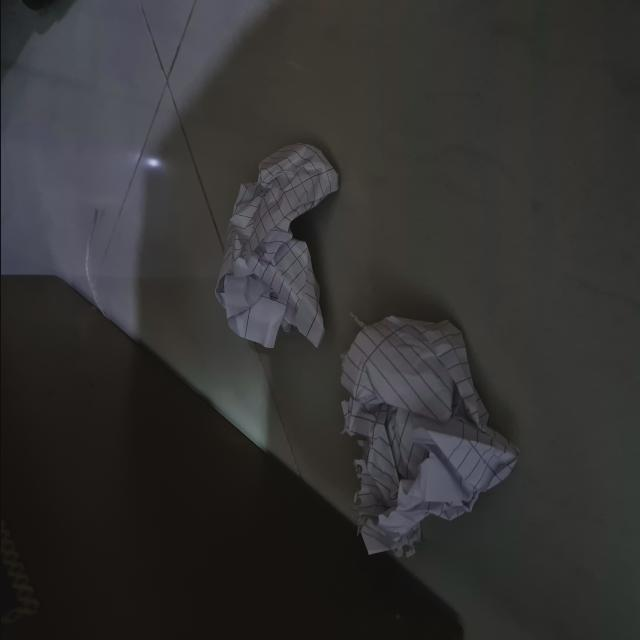Paper: (338, 306, 522, 577), (171, 134, 356, 356)
